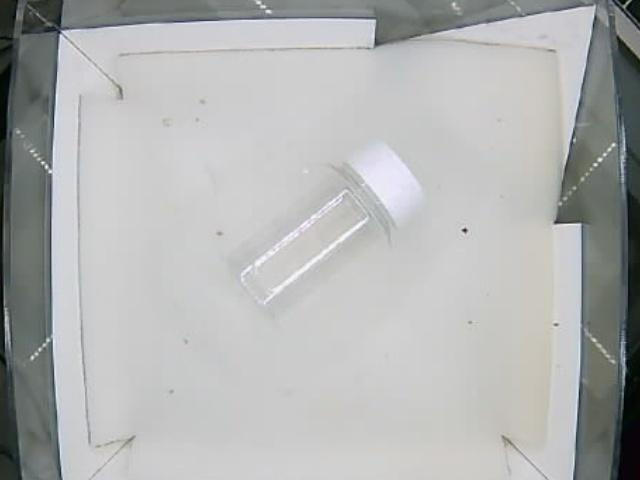Bottle: (222, 141, 422, 323)
